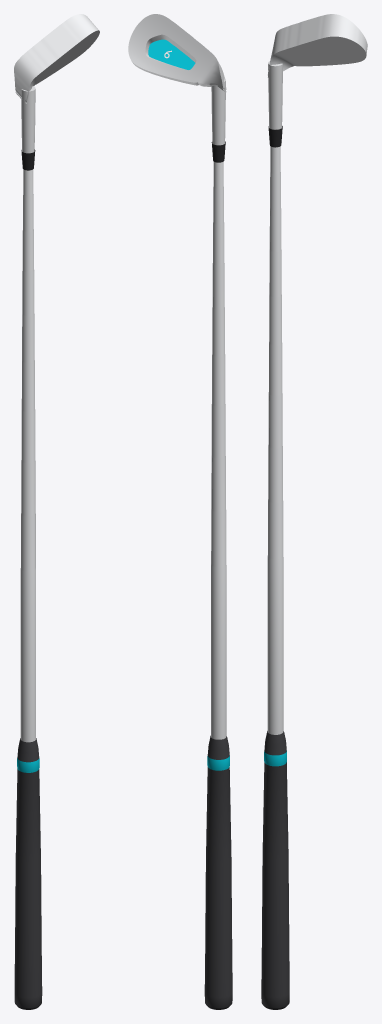
The model's file is Club_iron9_cavity.fbx.
3 renders of one model, left to right at view 1: azimuth 30°, elevation 25°; view 2: azimuth 150°, elevation 25°; view 3: azimuth 330°, elevation 25°, orthographic. The views are drawn at different scales.
Parts seen in each view (by area): view 1: Club_iron9_cavity; view 2: Club_iron9_cavity; view 3: Club_iron9_cavity.
Boxes of the visible parts, x1,y1,x2,y2 form: Club_iron9_cavity: (14, 14, 99, 1009); Club_iron9_cavity: (128, 14, 232, 1009); Club_iron9_cavity: (261, 14, 367, 1009).
Bounding box in the file's own units: 0.0955 × 0.9869 × 0.0456.
